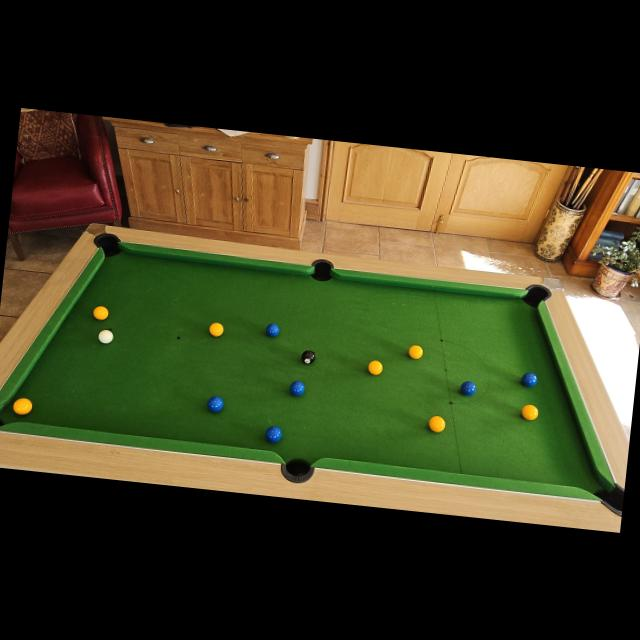Ball: (12, 397, 32, 416), (428, 414, 447, 434), (264, 424, 282, 443), (366, 359, 384, 377), (406, 342, 424, 360), (520, 402, 538, 420), (206, 394, 223, 412), (521, 371, 537, 387), (290, 380, 306, 396), (300, 349, 316, 365), (97, 328, 113, 344), (458, 381, 474, 396), (92, 306, 109, 320), (209, 322, 224, 336), (266, 322, 280, 336)
